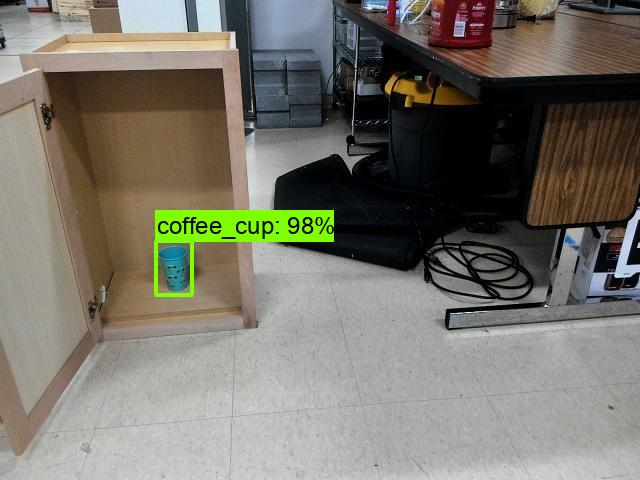coffee_cup: (154, 242, 195, 294)
